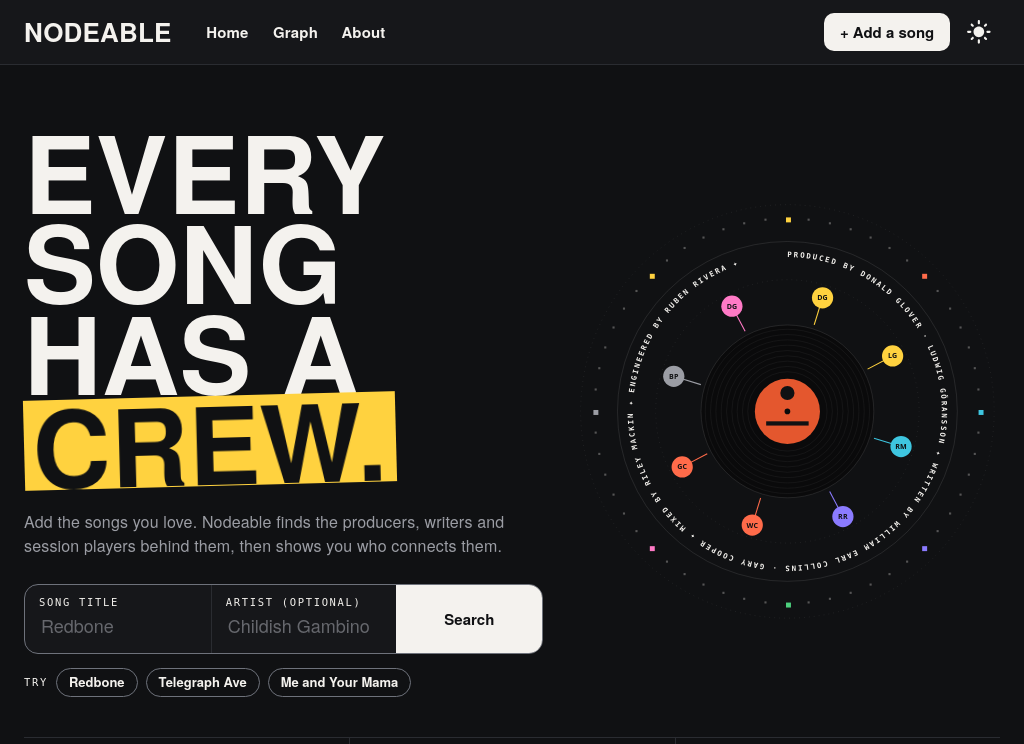
Test: app shell and routes › NFR_A11Y_01 labels the theme toggle with the action it performs and switches scheme
The studio theme starts dark, so the button offers the light theme.
Click the button named "Switch to light theme": (979, 32) x1=958 y1=11 x2=1000 y2=53
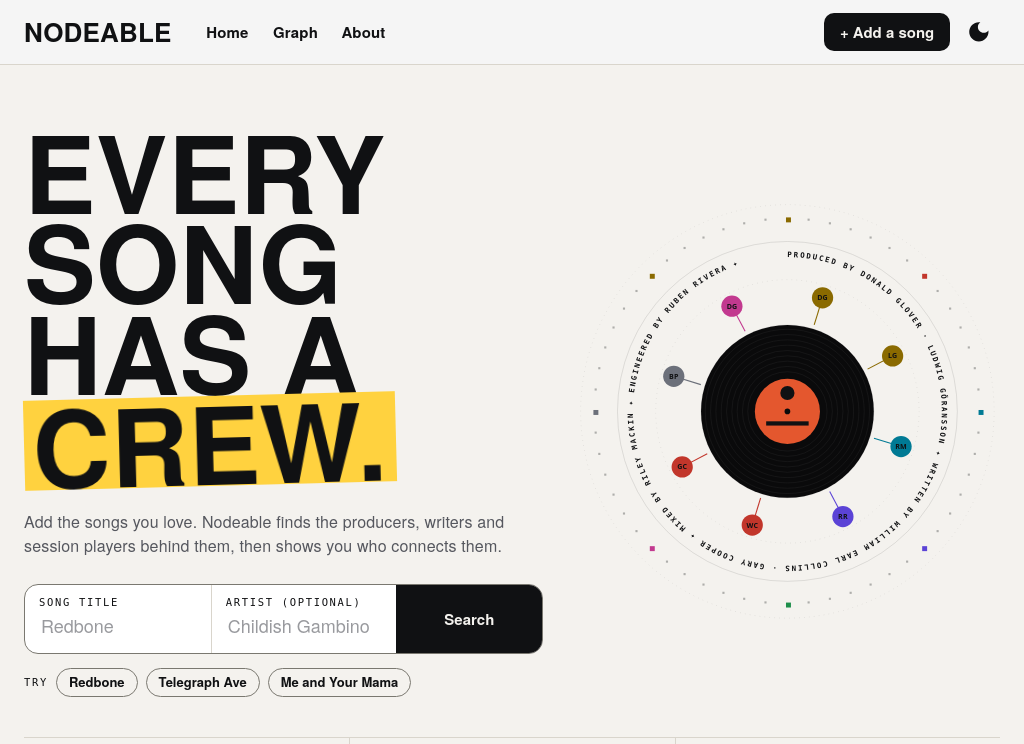
Result: the button named "Switch to dark theme" is shown at x1=958 y1=11 x2=1000 y2=53
